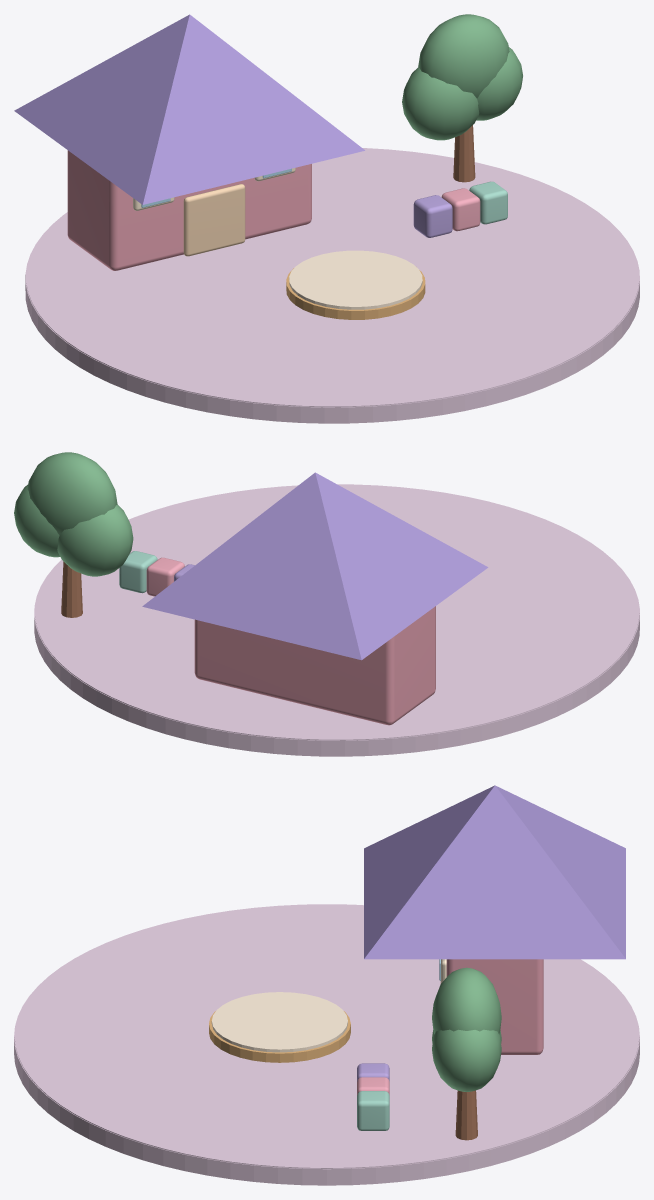
Rendered from escola.glb.
3 renders of one model, top to bottom at view 1: azimuth 30°, elevation 25°; view 2: azimuth 150°, elevation 25°; view 3: azimuth 270°, elevation 25°, orthographic. The views are drawn at different scales.
Visible parts, largest first — view 1: Diorama piping.009, Gabled roof.001, School, Diorama base.009, Look pedestal.009, Leafy canopy.014, Leafy canopy.012, Front door.001, Leafy canopy.013, Look pedestal trim.009, Play blocks, Play blocks.001 (+2 smaller); view 2: Diorama piping.009, Gabled roof.001, School, Diorama base.009, Leafy canopy.014, Leafy canopy.012, Leafy canopy.013, Play blocks.002, Tree trunk.013, Play blocks.001; view 3: Diorama piping.009, Gabled roof.001, Diorama base.009, Look pedestal.009, School, Leafy canopy.014, Leafy canopy.013, Look pedestal trim.009, Play blocks.002, Tree trunk.013.
Boxes of the visible parts, box(x1,y1,x2,y2) form: Diorama piping.009: box(26, 148, 639, 407); Gabled roof.001: box(14, 14, 364, 204); School: box(67, 150, 311, 270); Diorama base.009: box(25, 233, 639, 423); Look pedestal.009: box(289, 250, 422, 309); Leafy canopy.014: box(418, 14, 509, 98); Leafy canopy.012: box(402, 67, 479, 140); Front door.001: box(183, 184, 245, 256); Leafy canopy.013: box(476, 47, 522, 120); Look pedestal trim.009: box(286, 268, 425, 319); Play blocks: box(413, 195, 452, 237); Play blocks.001: box(441, 188, 480, 231); Diorama piping.009: box(35, 484, 639, 740); Gabled roof.001: box(142, 472, 488, 660); School: box(194, 606, 435, 725); Diorama base.009: box(34, 570, 639, 756); Leafy canopy.014: box(27, 452, 117, 535); Leafy canopy.012: box(57, 504, 133, 576); Leafy canopy.013: box(14, 484, 59, 557); Play blocks.002: box(119, 551, 157, 593); Tree trunk.013: box(61, 561, 82, 617); Play blocks.001: box(146, 557, 184, 596); Diorama piping.009: box(14, 904, 639, 1168); Gabled roof.001: box(364, 785, 625, 959); Diorama base.009: box(14, 992, 639, 1185); Look pedestal.009: box(211, 992, 347, 1052); School: box(446, 959, 543, 1054); Leafy canopy.014: box(432, 967, 501, 1034); Leafy canopy.013: box(432, 1029, 501, 1091); Look pedestal trim.009: box(209, 1011, 350, 1062); Play blocks.002: box(357, 1091, 389, 1130); Tree trunk.013: box(455, 1090, 477, 1140).
Size of what is drawn, in the model's own units: 8.64 by 3.62 by 8.64.
